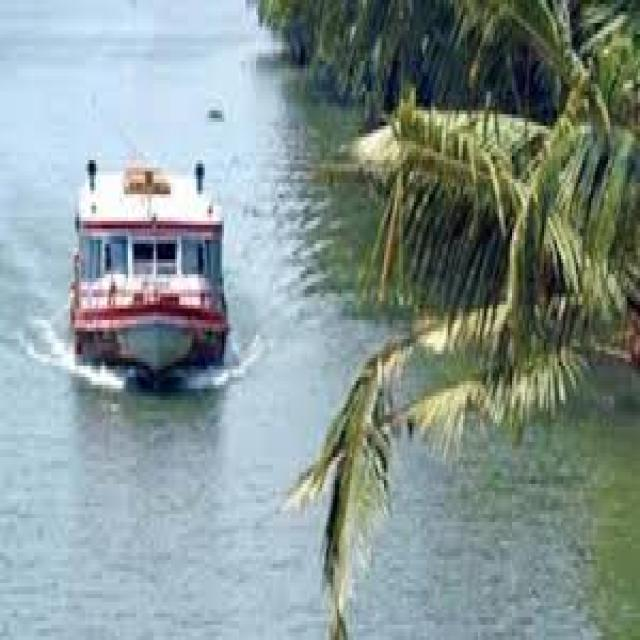houseboat: (64, 149, 234, 380)
